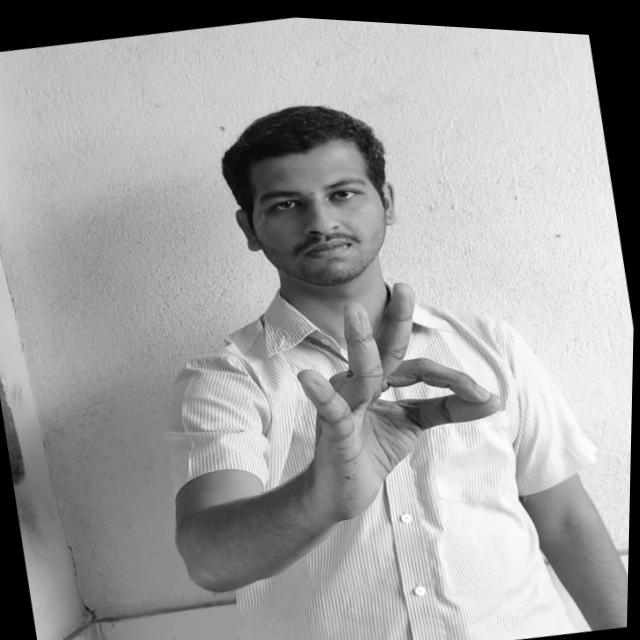Superb: (273, 255, 520, 525)
